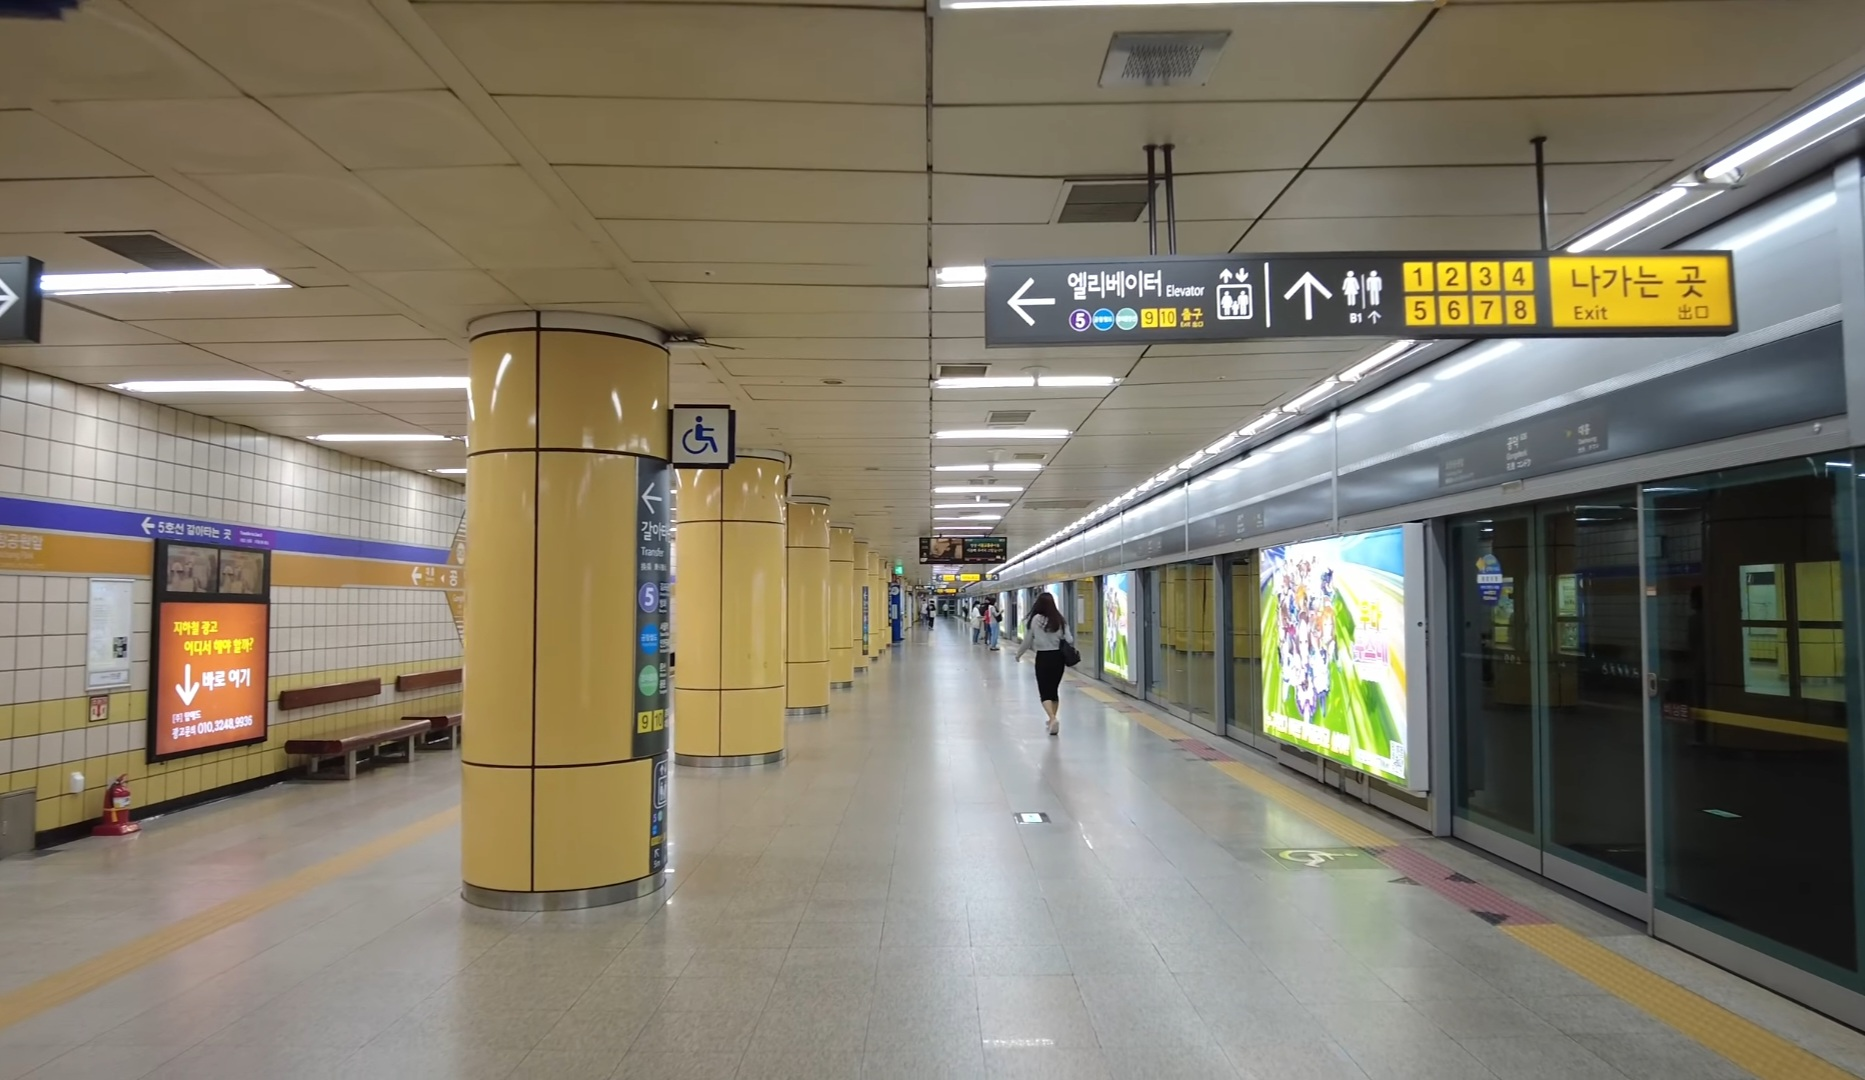signBoard: (981, 242, 1748, 357)
